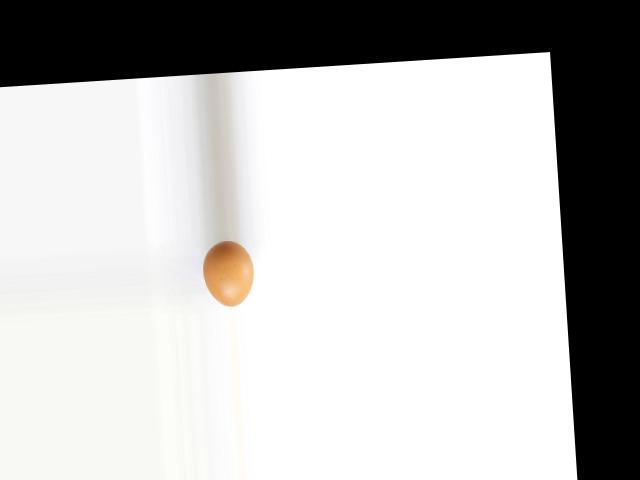egg: (200, 239, 254, 307)
